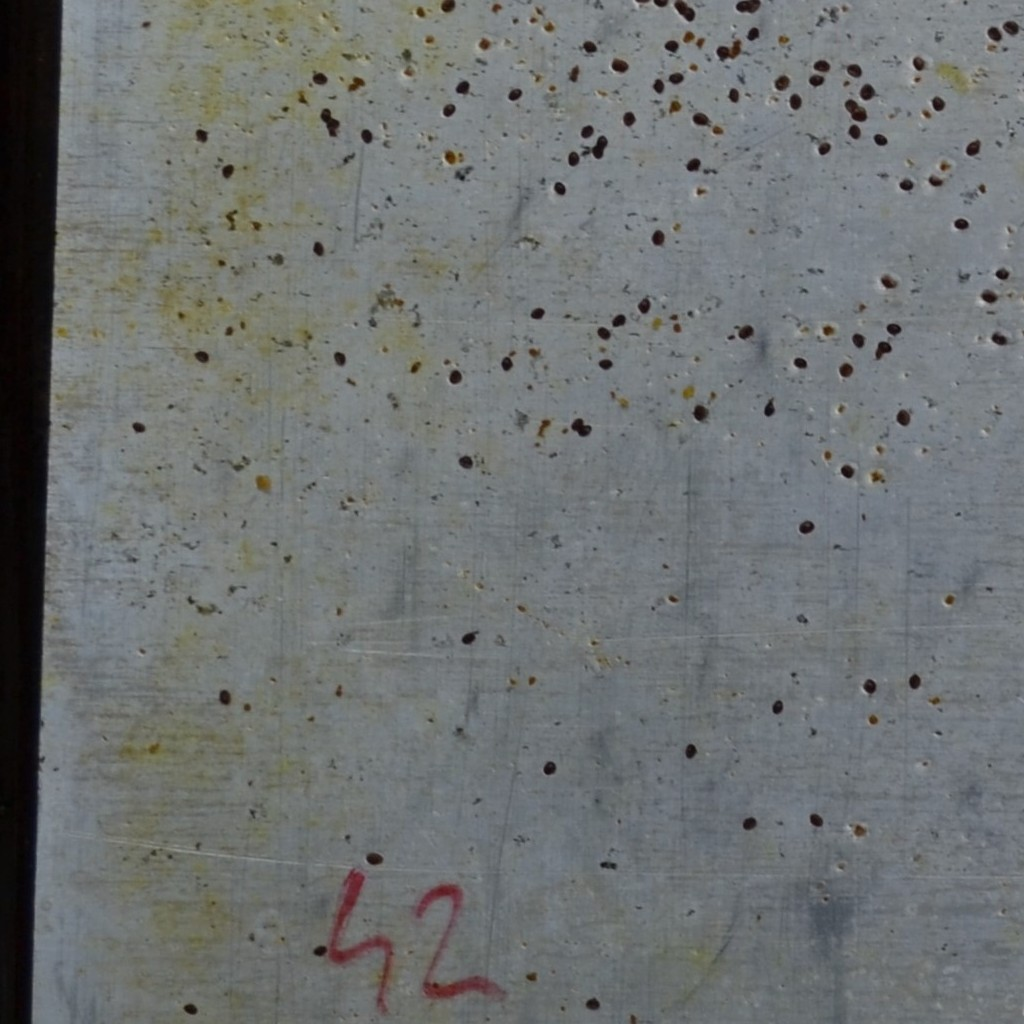varroa: (690, 107, 710, 132), (962, 136, 982, 158), (988, 327, 1011, 346), (583, 992, 603, 1013), (609, 53, 630, 73), (909, 52, 928, 74), (979, 284, 999, 304), (797, 517, 817, 537), (365, 849, 385, 869), (884, 319, 905, 338), (737, 321, 756, 342), (807, 808, 826, 829), (876, 338, 898, 355), (857, 83, 879, 100), (331, 347, 348, 369), (815, 138, 834, 157), (773, 73, 792, 92), (311, 68, 330, 87), (872, 129, 890, 149), (541, 758, 559, 778), (862, 674, 879, 695), (850, 329, 867, 350), (846, 60, 863, 81), (310, 236, 327, 257), (878, 272, 900, 288), (811, 56, 833, 72), (838, 462, 857, 480), (837, 360, 855, 379), (666, 68, 685, 86), (577, 120, 595, 139), (1002, 18, 1019, 38), (930, 93, 947, 113), (457, 453, 474, 473), (311, 943, 331, 960), (683, 739, 699, 760), (217, 686, 233, 707), (949, 215, 971, 230), (908, 670, 923, 692), (985, 25, 1003, 43), (596, 355, 614, 373), (506, 85, 524, 103), (769, 698, 786, 717), (580, 36, 597, 55), (690, 404, 707, 423), (895, 407, 911, 427), (851, 106, 871, 122), (192, 348, 212, 364), (621, 108, 636, 129), (359, 127, 374, 148), (221, 160, 235, 182), (993, 263, 1011, 280), (844, 96, 862, 113), (684, 156, 702, 173), (741, 814, 758, 832), (897, 177, 916, 193), (650, 227, 666, 246), (848, 122, 863, 142), (715, 42, 730, 62), (650, 75, 665, 95), (566, 146, 580, 167), (529, 305, 546, 322), (927, 172, 945, 188), (792, 354, 810, 370), (761, 400, 777, 418), (552, 178, 568, 196), (453, 79, 471, 95), (460, 629, 478, 645), (499, 354, 513, 374), (596, 325, 612, 342), (441, 102, 457, 119), (727, 85, 742, 103), (448, 368, 463, 386), (789, 92, 803, 111), (637, 296, 650, 316), (131, 418, 147, 434), (808, 73, 825, 88), (181, 1001, 198, 1016), (610, 313, 626, 328), (663, 39, 680, 53), (318, 105, 332, 122), (439, 0, 458, 12), (591, 144, 605, 160), (745, 26, 759, 41), (577, 423, 592, 437), (570, 415, 583, 431), (683, 5, 695, 22), (735, 0, 749, 14), (748, 1, 763, 14), (596, 133, 608, 148), (673, 0, 686, 13)
